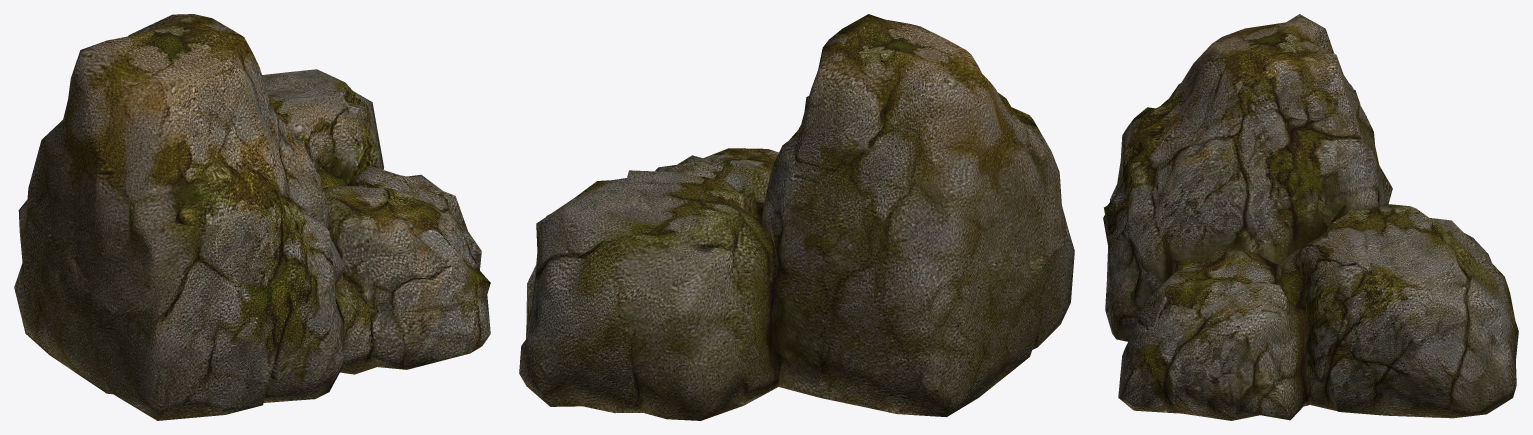
Rendered from rocks.glb.
The picture shows the model from 3 angles, left to right: view 1: azimuth 30°, elevation 25°; view 2: azimuth 150°, elevation 25°; view 3: azimuth 270°, elevation 25°; orthographic projection. The views are drawn at different scales.
Size of the model in its own units: 0.9604 by 0.7351 by 1.
Materials: 1 (1 with a texture image).
